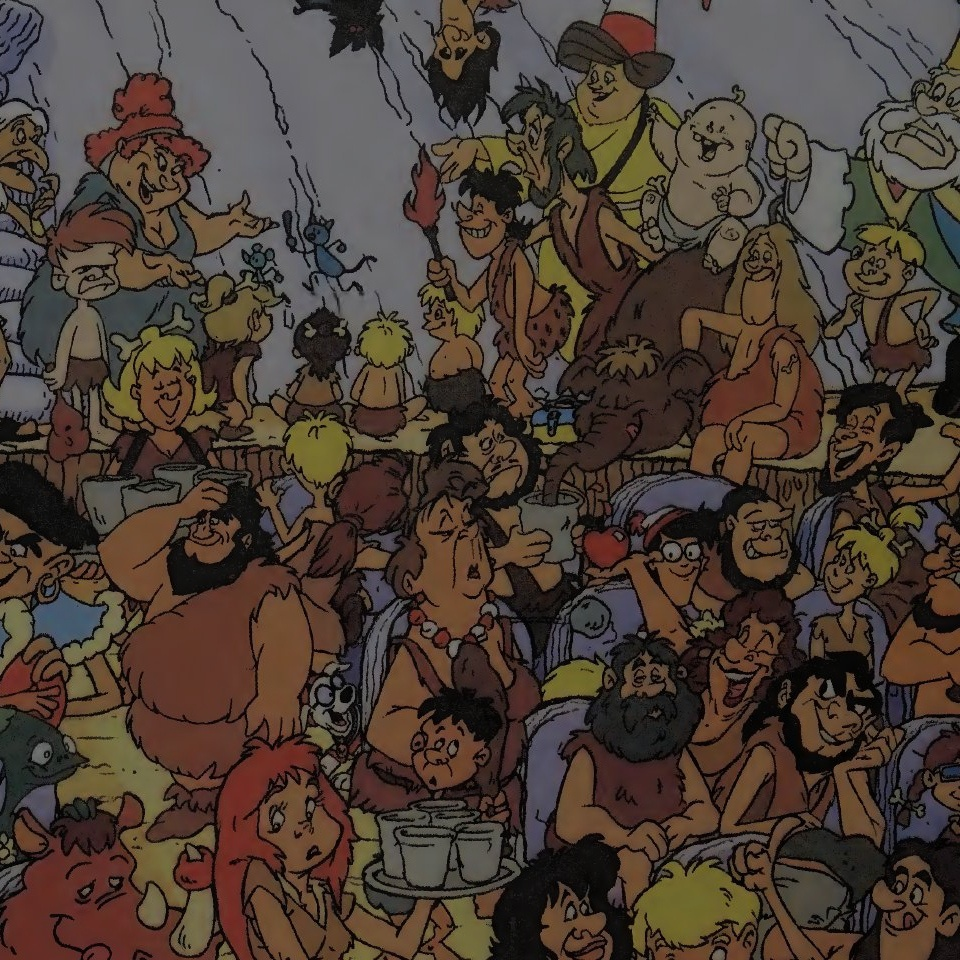waldo: (636, 501, 718, 610)
